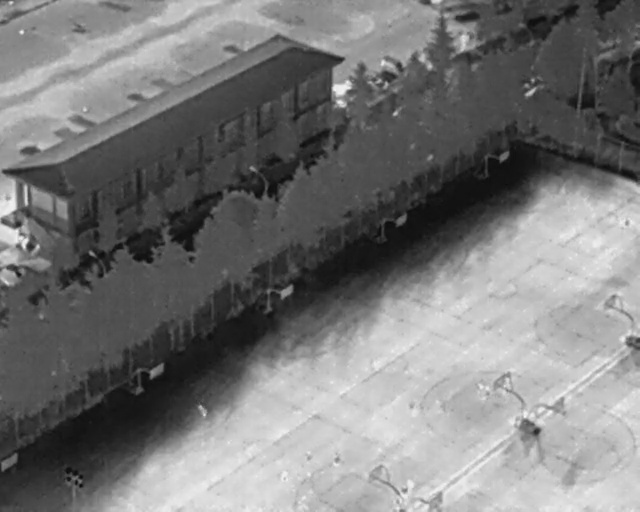Car: (0, 262, 29, 283)
Person: (194, 401, 211, 420), (17, 235, 30, 250), (332, 451, 342, 469), (304, 450, 314, 464), (279, 470, 289, 484), (401, 485, 410, 498), (478, 381, 484, 399), (623, 217, 632, 228), (484, 386, 491, 398)
